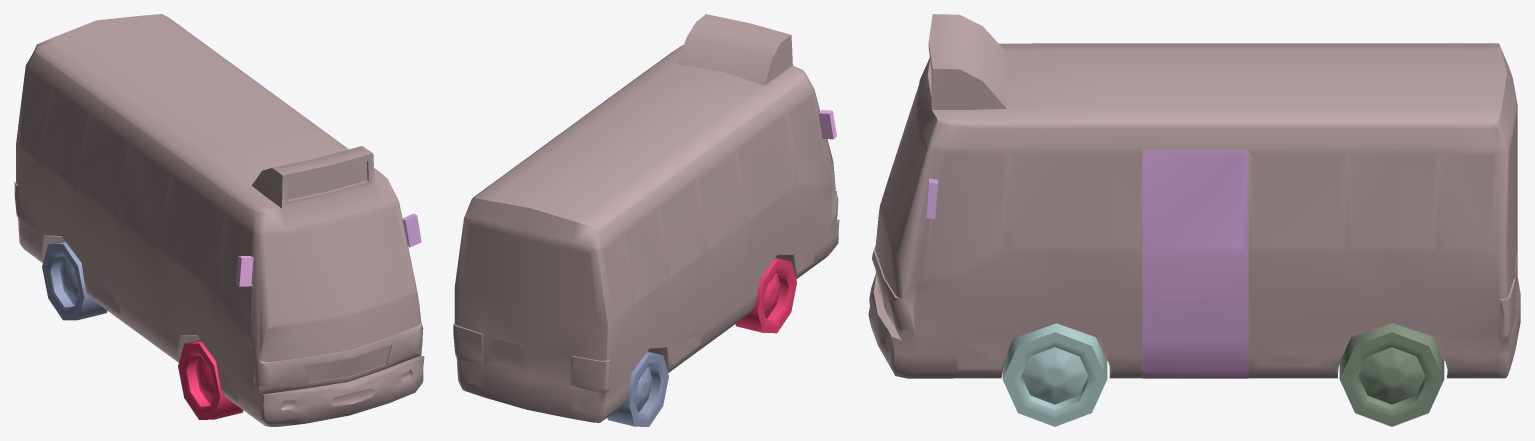
The picture shows the model from 3 angles, left to right: view 1: azimuth 30°, elevation 25°; view 2: azimuth 150°, elevation 25°; view 3: azimuth 270°, elevation 25°; orthographic projection. The views are drawn at different scales.
Parts seen in each view (by area): view 1: Object_4, Object_12, Object_16, Object_6.002, Object_6; view 2: Object_4, Object_12, Object_16, Object_6.002; view 3: Object_4, Object_8, Object_10, Object_14.
Boxes of the visible parts, <box> form: Object_4: <box>14,14,424,426</box>; Object_12: <box>42,240,107,320</box>; Object_16: <box>178,340,243,419</box>; Object_6.002: <box>236,256,253,286</box>; Object_6: <box>402,213,421,247</box>; Object_4: <box>453,14,839,422</box>; Object_12: <box>607,351,668,426</box>; Object_16: <box>735,257,796,333</box>; Object_6.002: <box>818,110,836,139</box>; Object_4: <box>868,14,1520,378</box>; Object_8: <box>1142,150,1248,378</box>; Object_10: <box>1339,323,1444,426</box>; Object_14: <box>1002,323,1107,426</box>.
Size of the model in its own units: 0.4002 by 0.5709 by 1.
